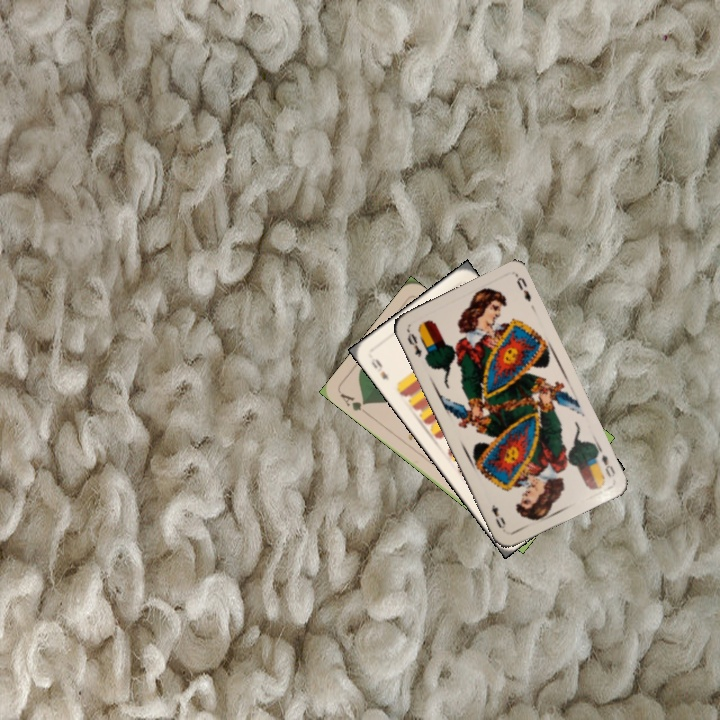E9: (367, 355, 391, 383)
EO: (591, 443, 618, 480), (403, 326, 425, 360)
GA: (336, 389, 372, 418)
